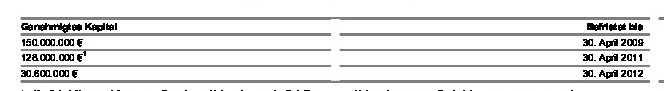table: (0, 0, 664, 91)
